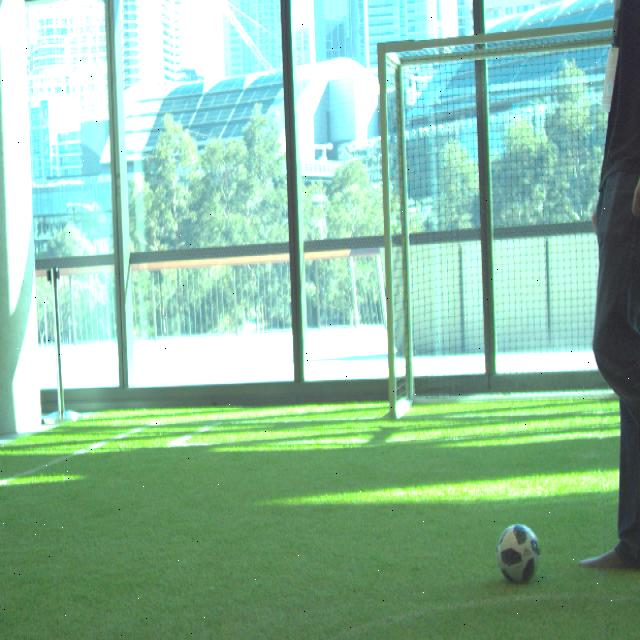ball: (497, 522, 541, 586)
goalpost: (379, 43, 397, 417)
